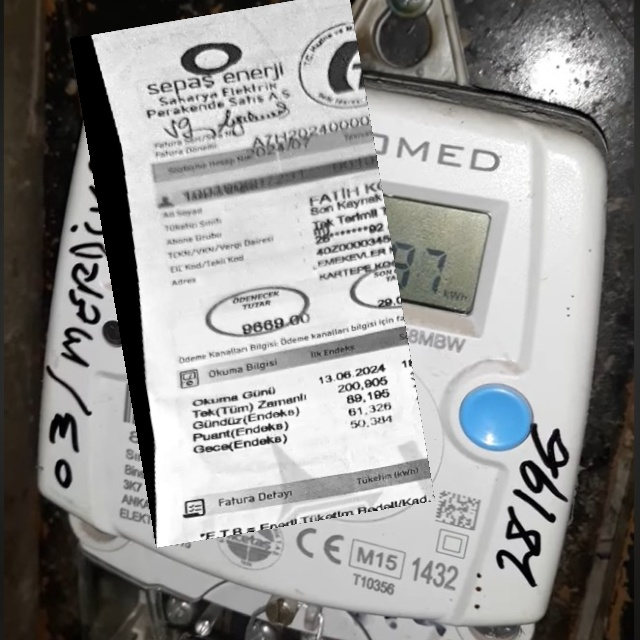electricity-bill: (70, 0, 434, 548)
